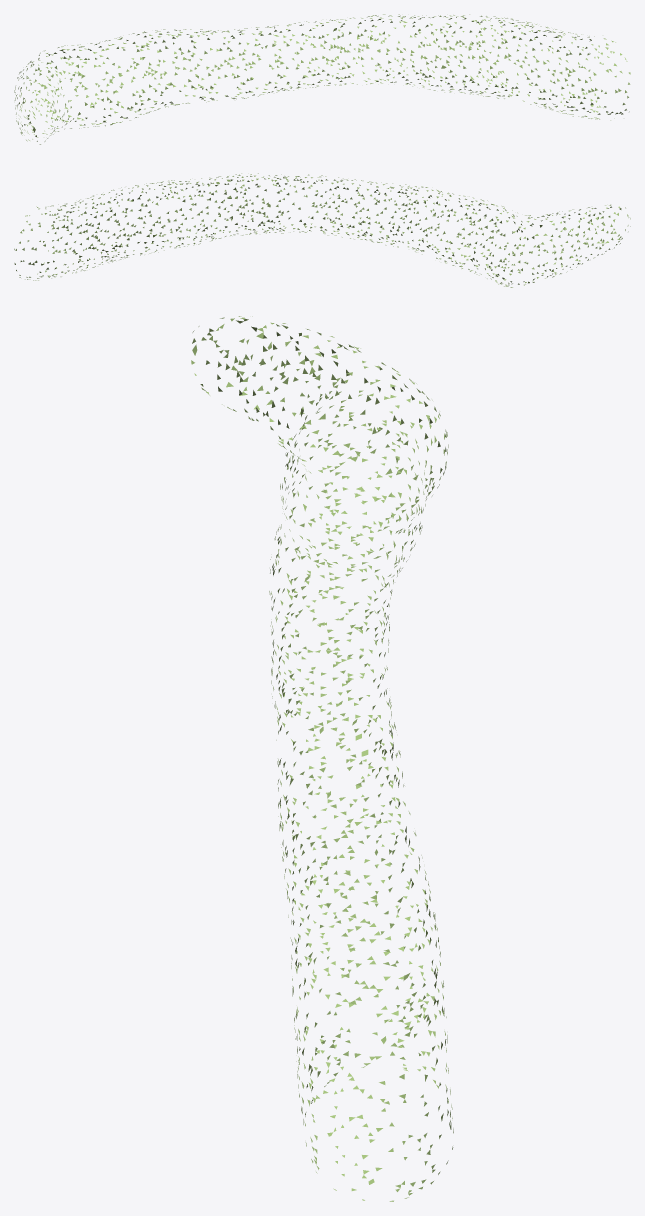
Rendered from morph_012.glb.
3 views of the same model, one above another, from view 1: azimuth 30°, elevation 25°; view 2: azimuth 150°, elevation 25°; view 3: azimuth 270°, elevation 25° (orthographic). The views are drawn at different scales.
Size of the model in its own units: 136 by 42.02 by 27.82.
